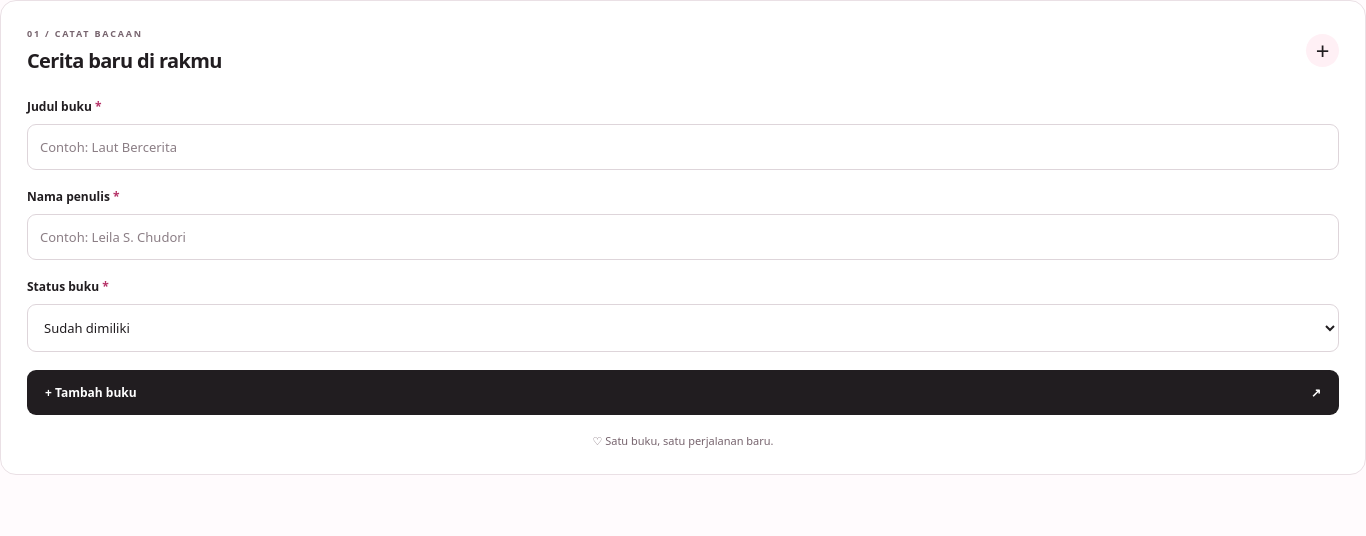
it: menolak input kosong dan memberi feedback visual
Click the button "+ Tambah buku ↗" at coordinates (91, 392), box [27, 370, 1339, 415]
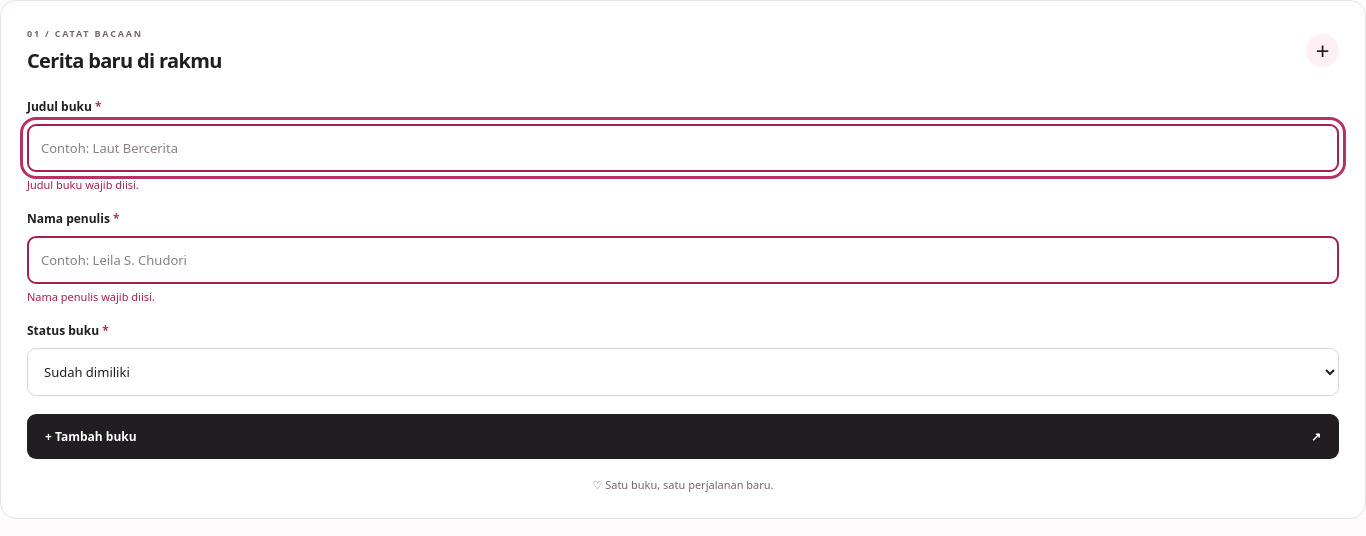
Expected: the text "Judul buku wajib diisi." is shown, [27, 177, 139, 192]
Expected: the text "Nama penulis wajib diisi." is shown, [27, 289, 155, 304]
